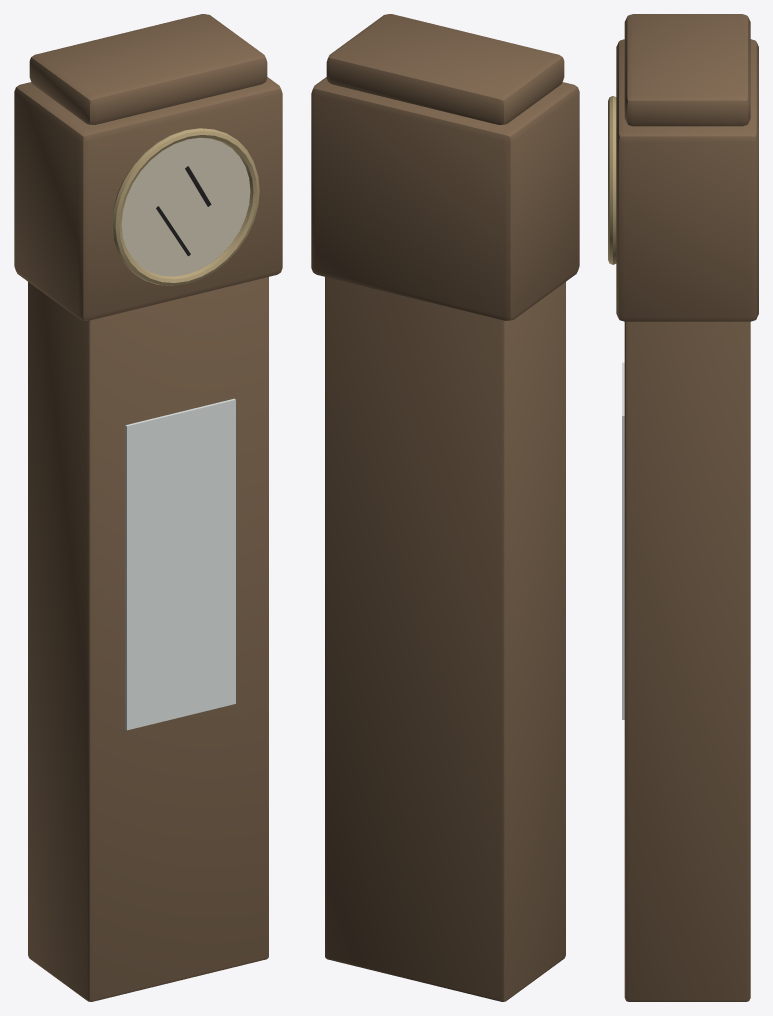
The model's file is grandfather_clock.glb.
3 views of the same model, side by side, from view 1: azimuth 30°, elevation 25°; view 2: azimuth 150°, elevation 25°; view 3: azimuth 270°, elevation 25° (orthographic).
Visible parts, largest first — view 1: grandfather_clock; view 2: grandfather_clock; view 3: grandfather_clock.
Part boxes in pixels (x1=…): grandfather_clock: x1=14, y1=14, x2=282, y2=1001; grandfather_clock: x1=311, y1=14, x2=579, y2=1001; grandfather_clock: x1=608, y1=14, x2=758, y2=1001.
Size of what is drawn, in the model's own units: 0.56 by 2.38 by 0.36.
